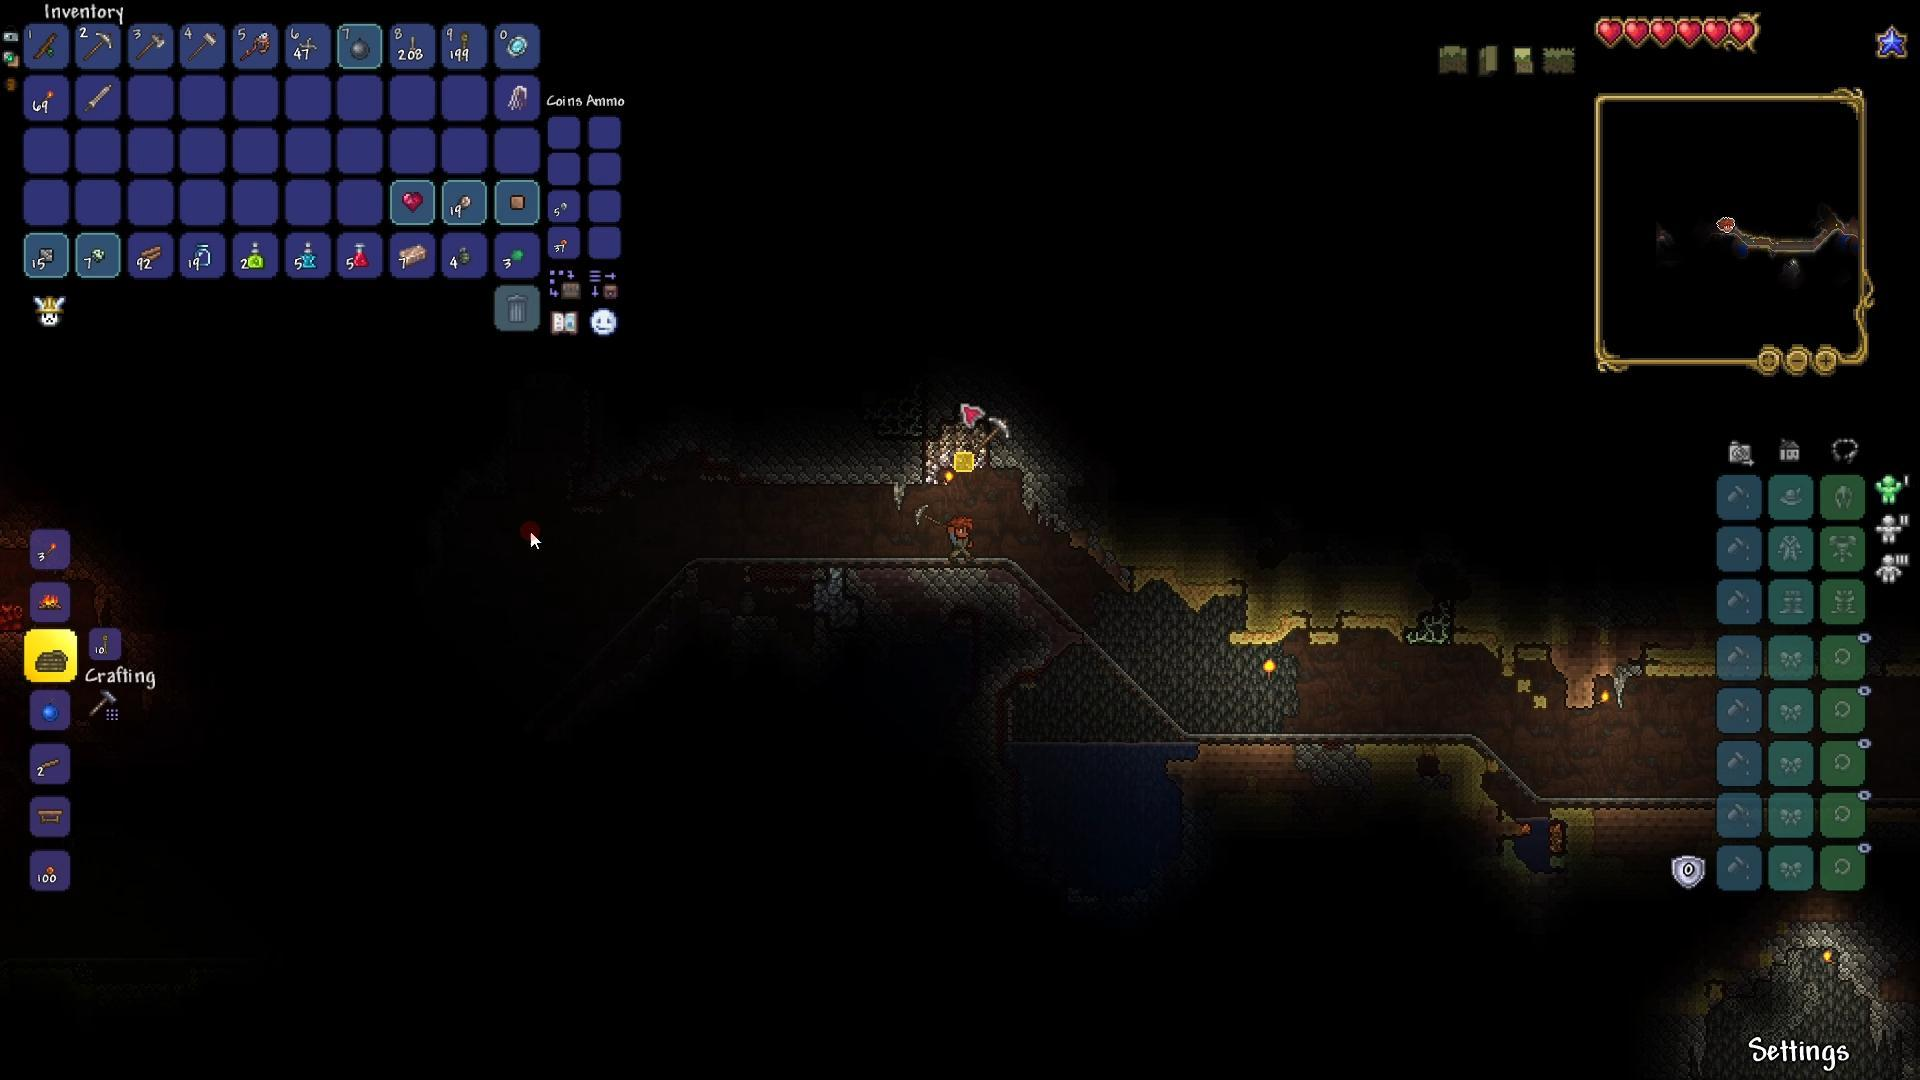sand: (1130, 559, 1261, 608), (1349, 736, 1484, 774), (1642, 642, 1724, 684), (1230, 607, 1311, 646), (1338, 605, 1404, 641), (1300, 608, 1349, 647), (1449, 617, 1513, 646), (1545, 800, 1592, 828)
